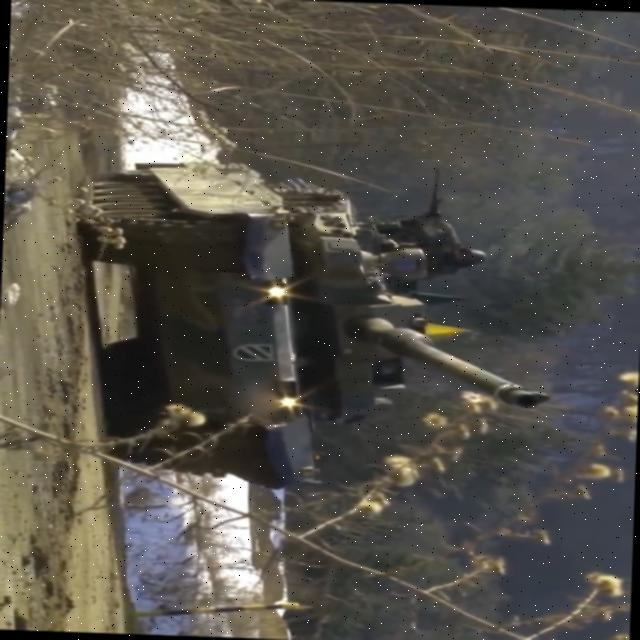korea tank: (70, 159, 557, 499)
